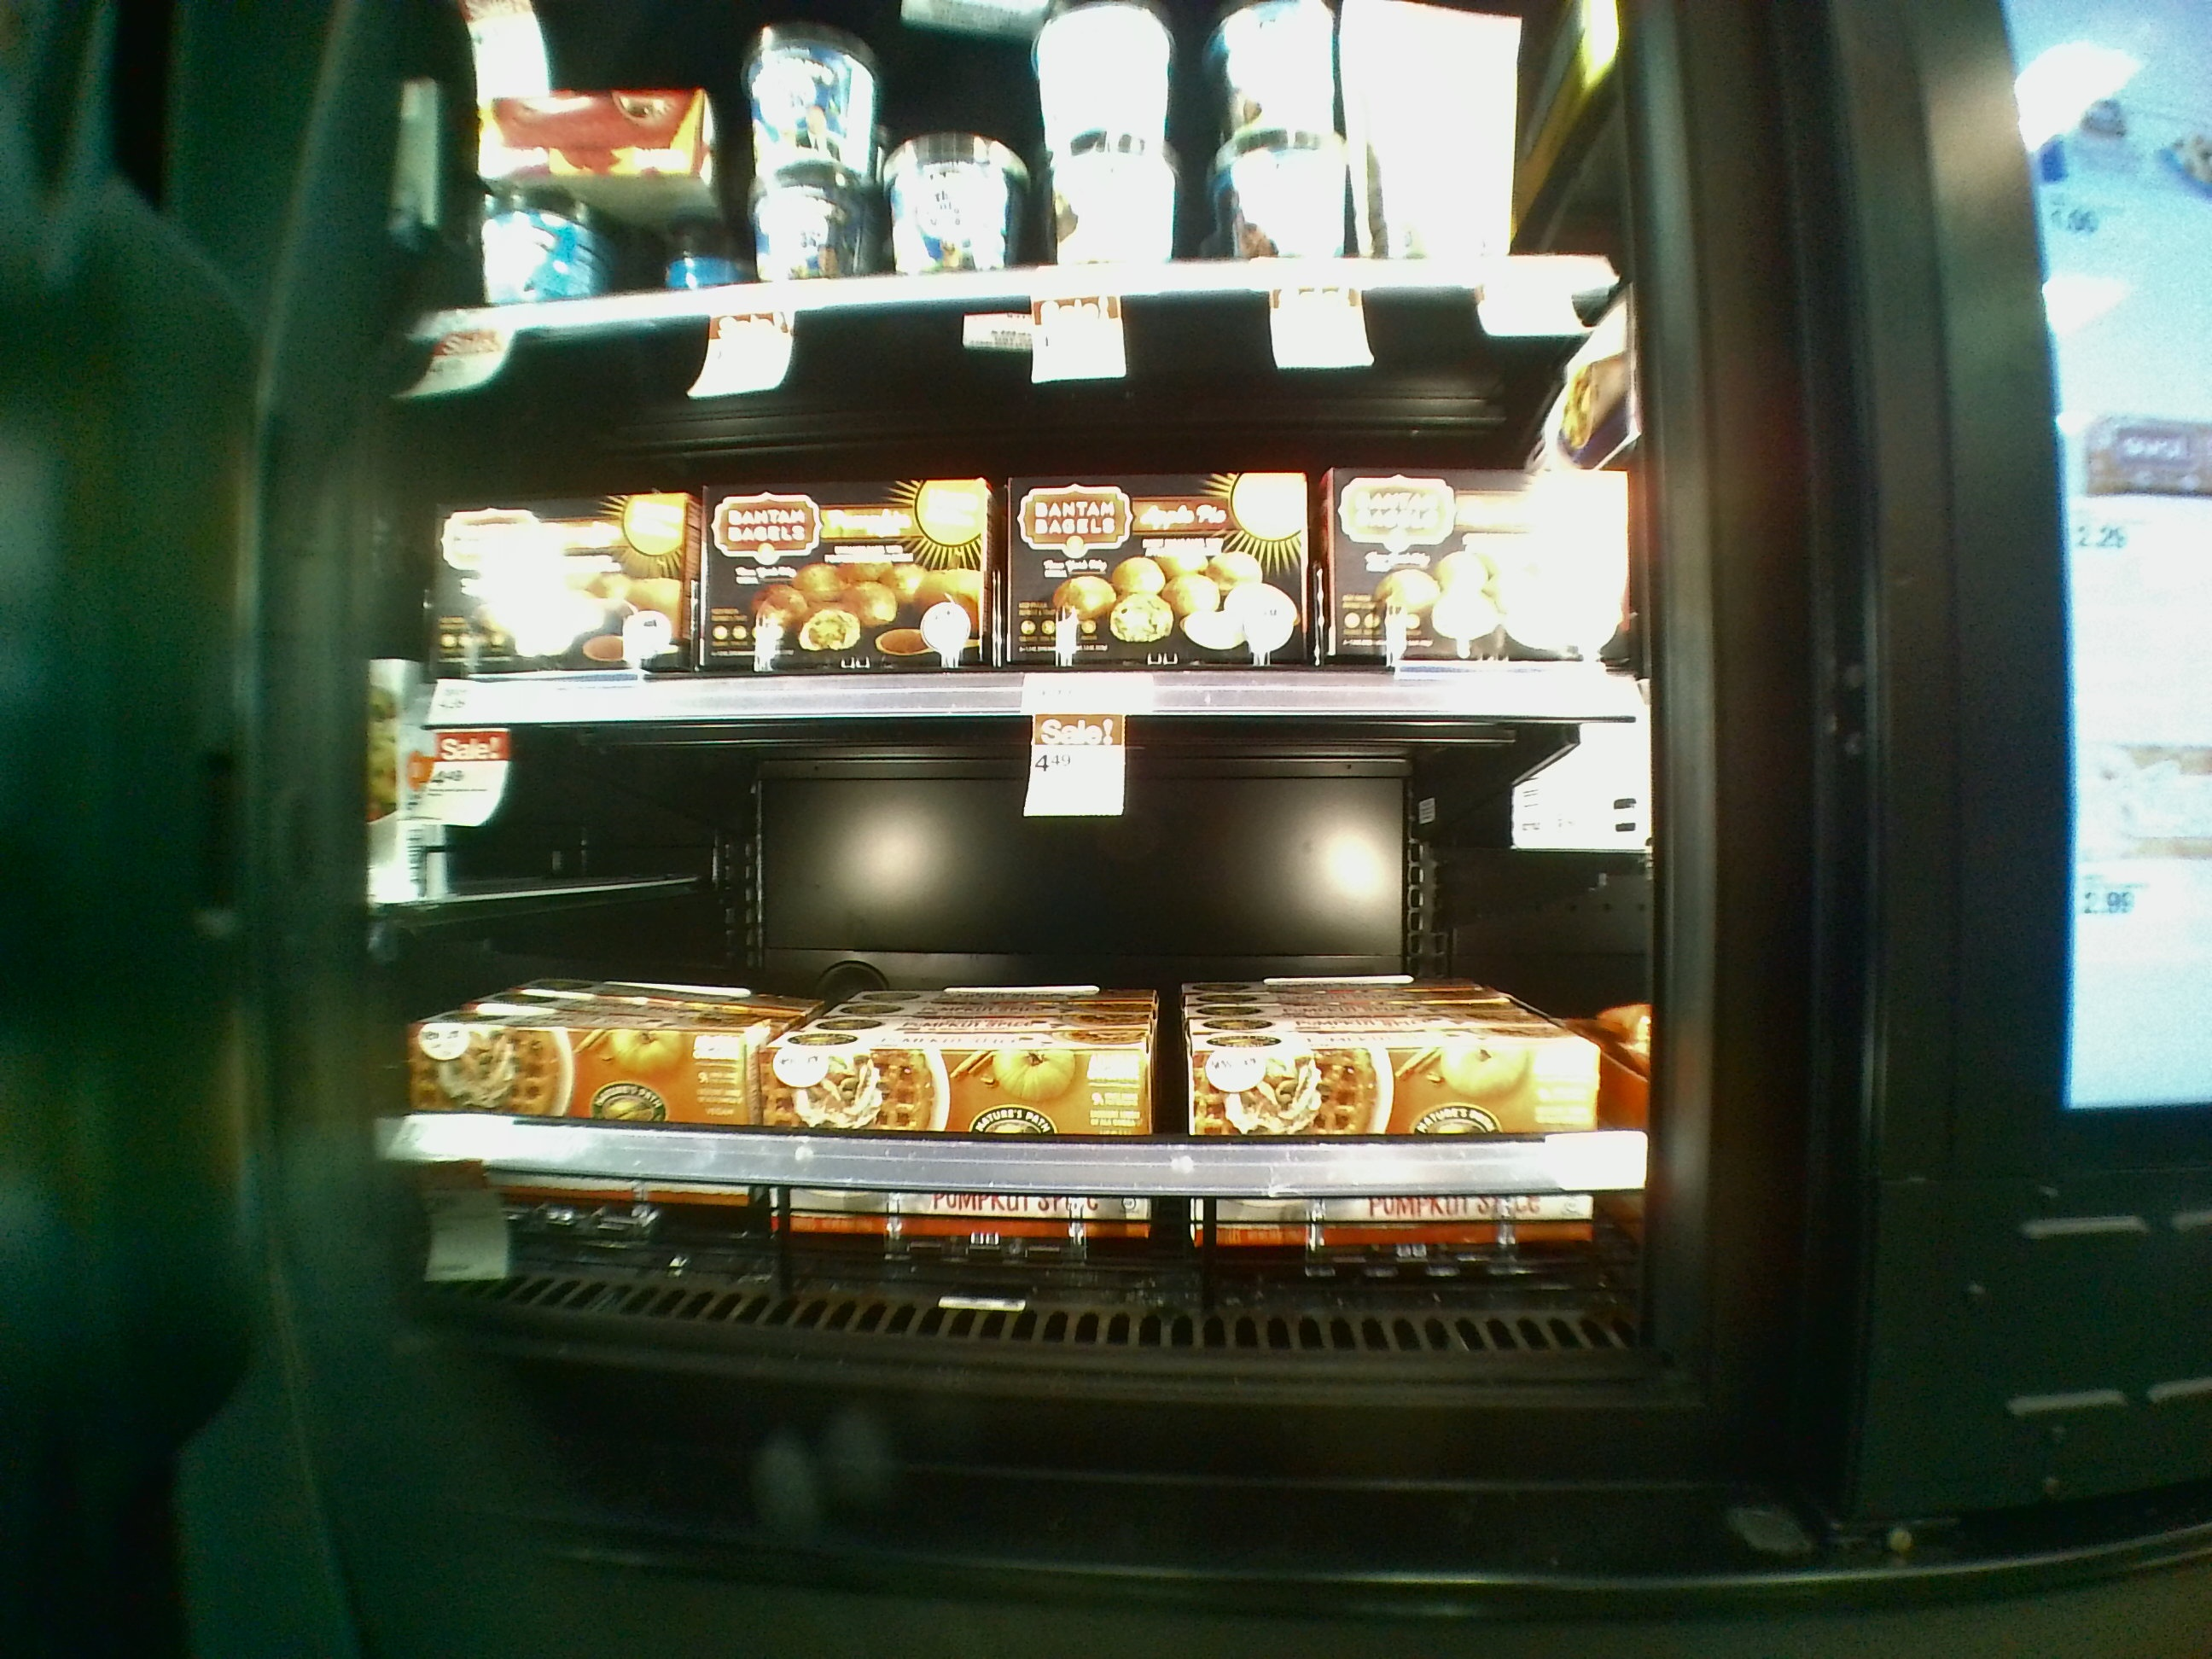shelf: (354, 688, 1656, 1378), (359, 310, 1651, 694)
